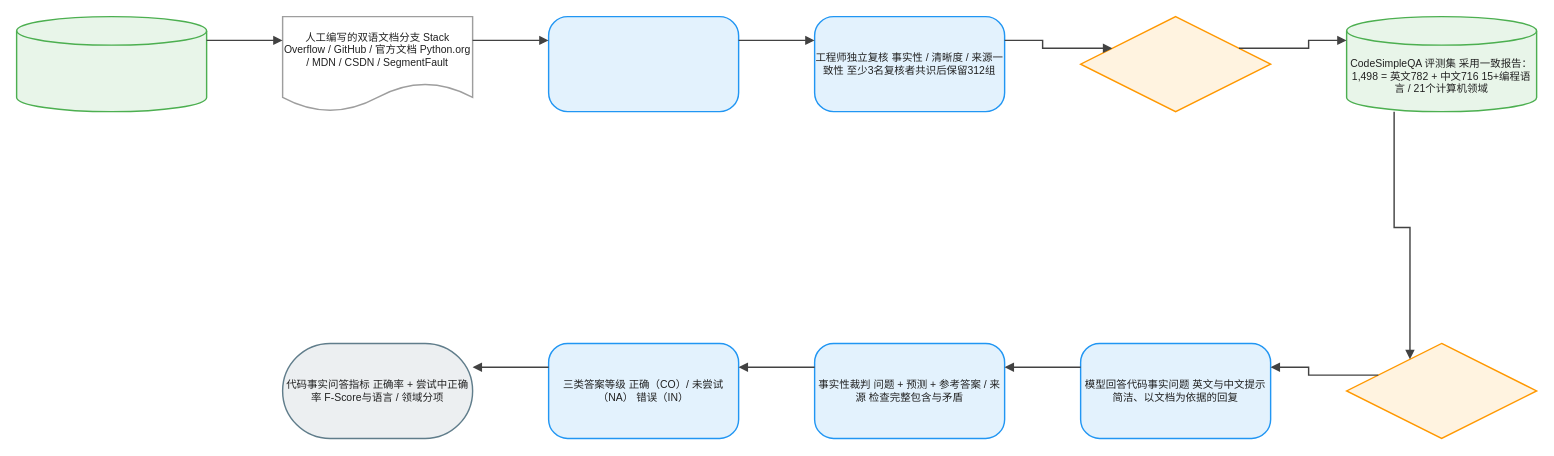
Image size: 1554x456. Some labels were removed from this diagram. Each missing label, with the box of its shape:
人工改写问答 8名受训多语言标注员 1,500个候选 -> 680组规范问答: (547, 15, 739, 112)
合并来源并校准计数 Code WebQA + 自构造 + 312组人工问答 一致报告1,498/英文782；一段写1,478/762: (1079, 15, 1271, 112)
论文报告的三类来源 Code WebQA + 自构造问题 人工编写的文档问答: (15, 15, 207, 112)
评测 / 训练边界 不与 CodeSimpleQA-Instruct 混合 后者是独立的66.9M条训练语料: (1345, 342, 1537, 439)
